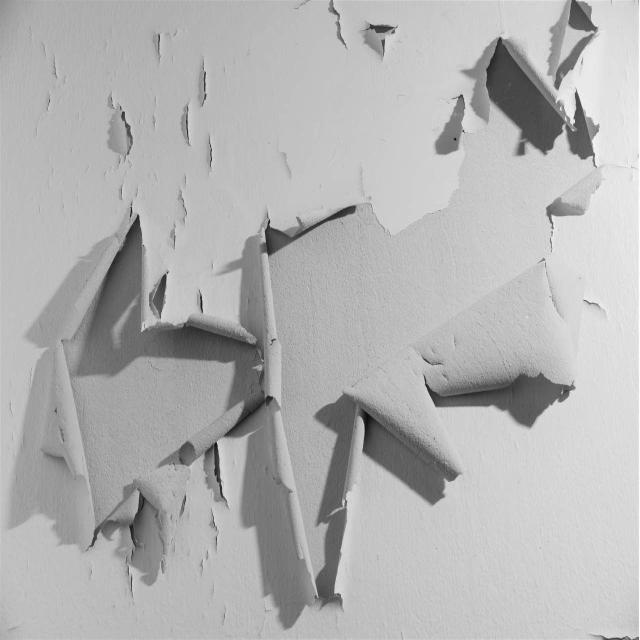peeling paint: (13, 0, 622, 627)
